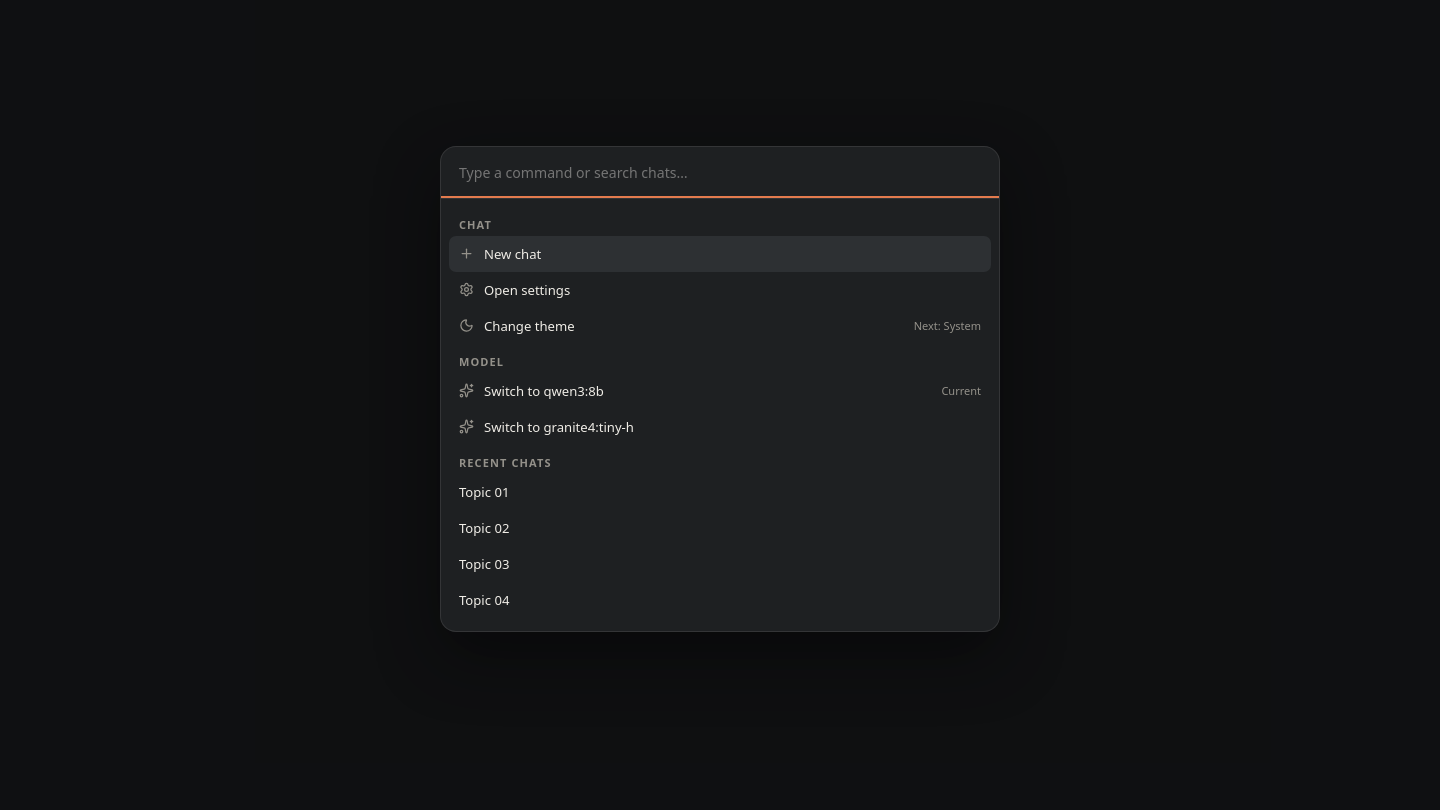
it: CommandPalette chat search › does not search on every keystroke
Type "Topic 12" into the dropdown with placeholder "Type a command or search chats…". click: coordinates (720, 173)
box: left=441, top=147, right=999, bottom=199
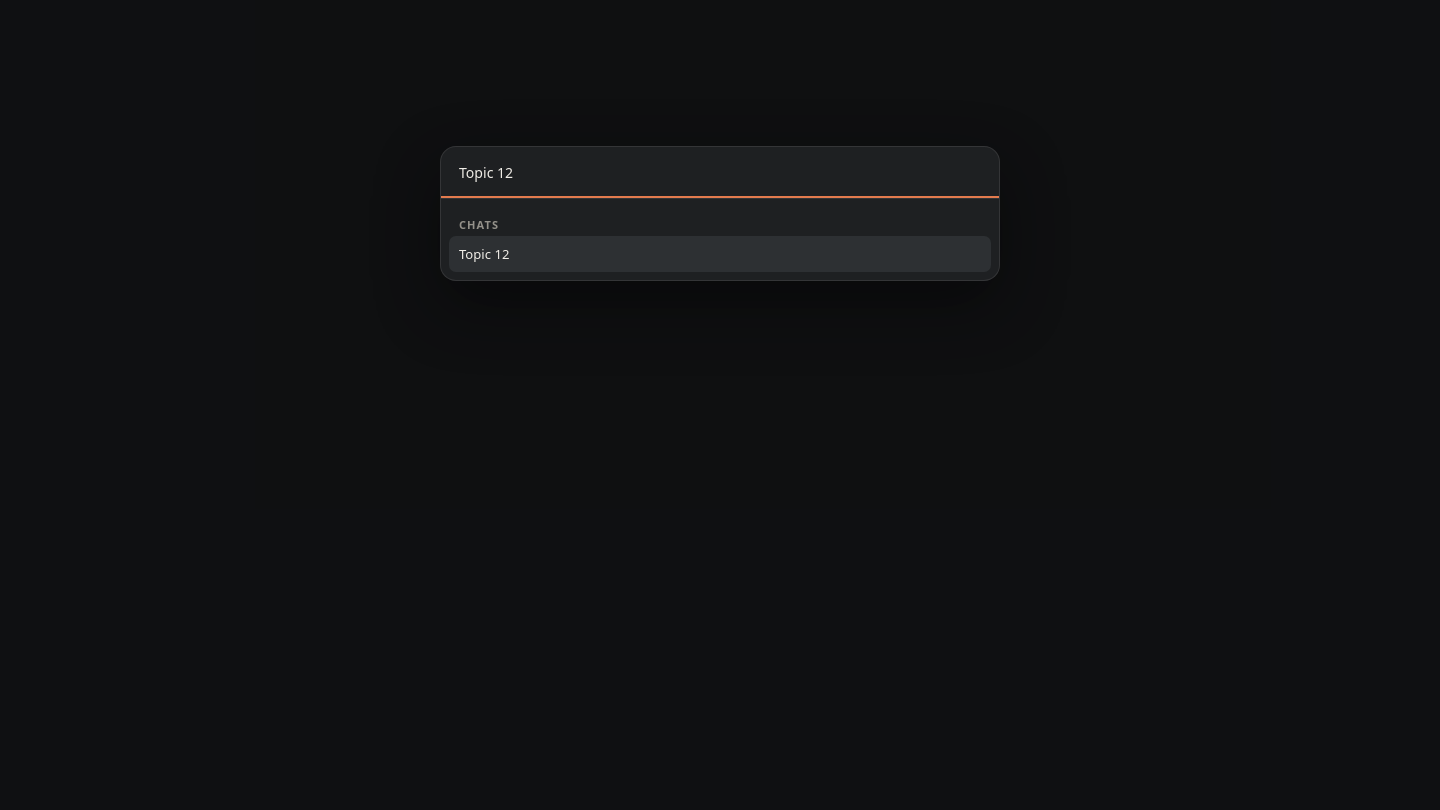
Result: the option "Topic 12" is shown at left=449, top=236, right=991, bottom=272
